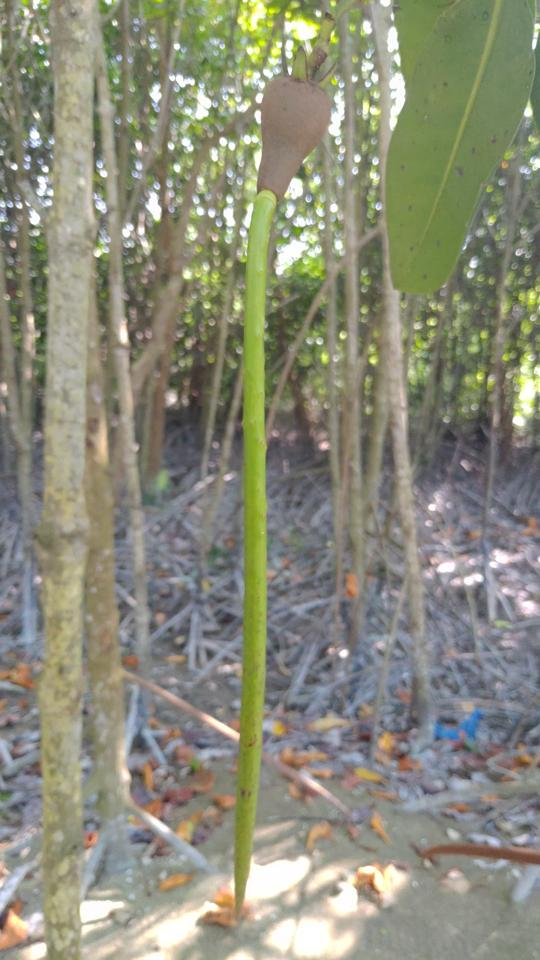setengah matang: (217, 40, 345, 932)
